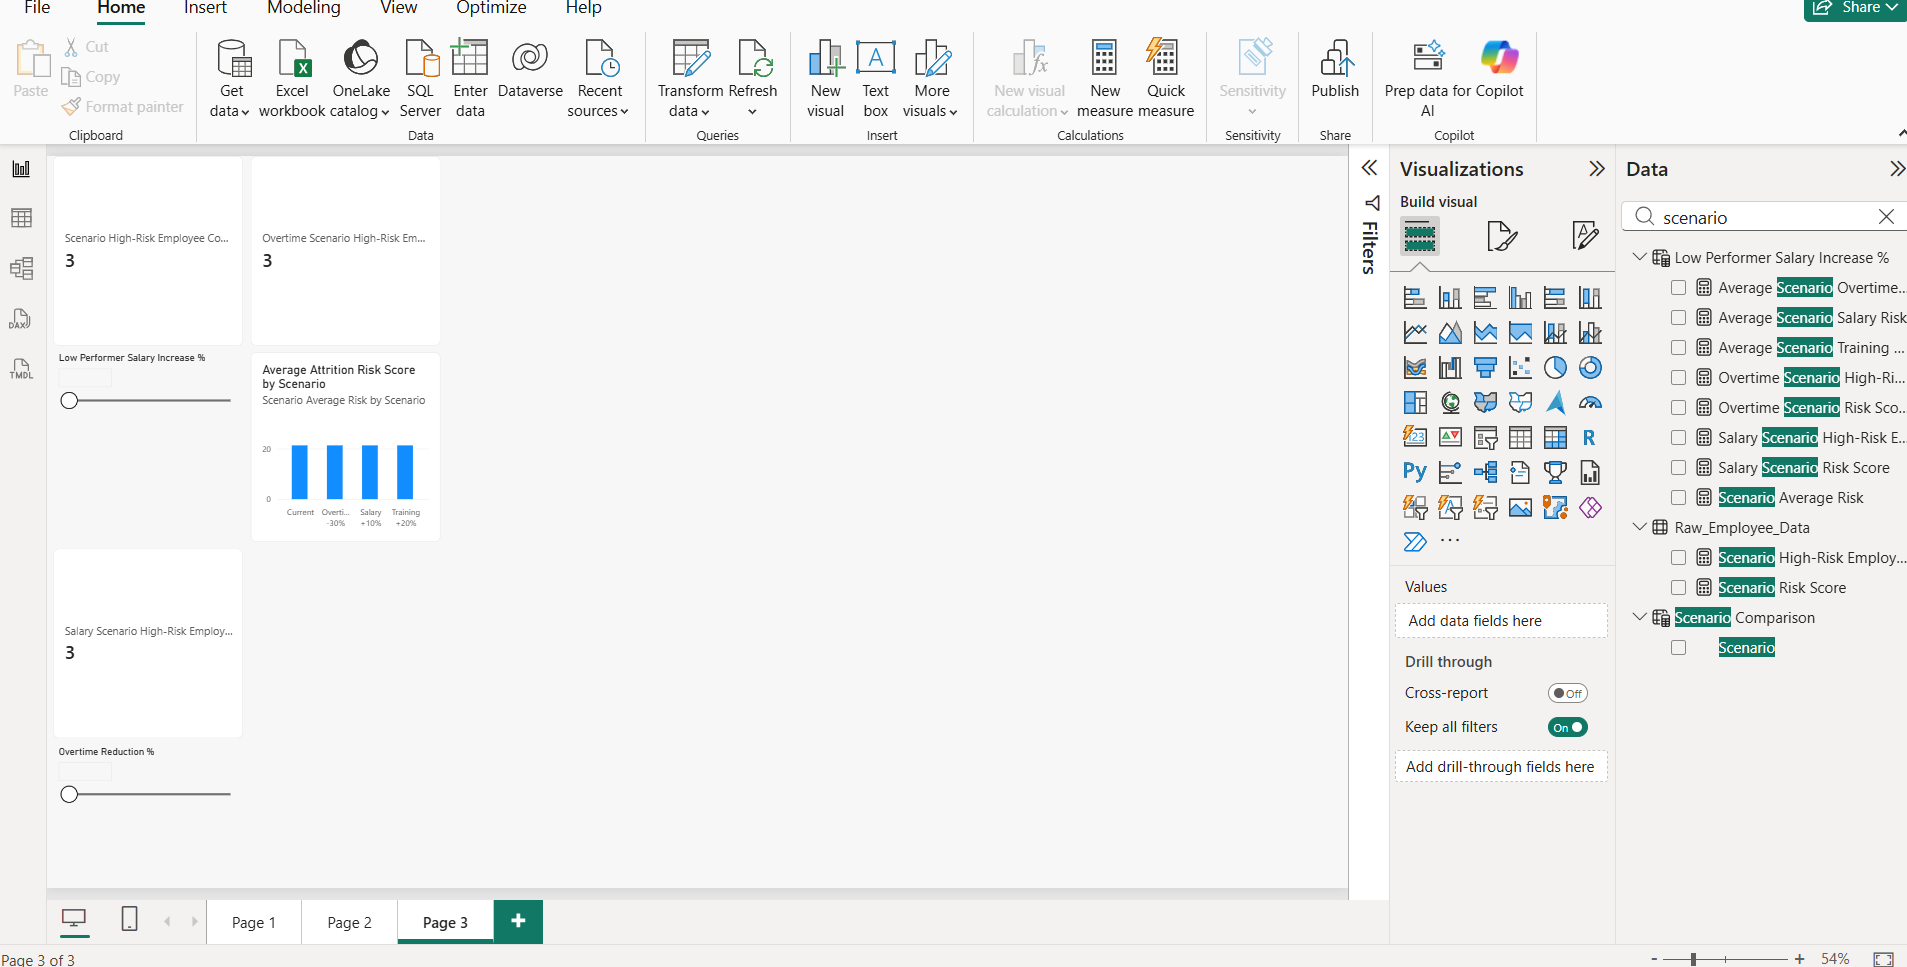

The dashboard page shown, as its layout file describes it:
{"tool":"powerbi","page":{"name":"Page 3","canvas":[1920,1080],"ordinal":2},"visuals":[{"type":"cardVisual","fields":{"Data":["Raw_Employee_Data.Scenario High-Risk Employee Count"]},"box":[10,0,280,280],"z":0},{"type":"slicer","fields":{"Values":["Low Performer Salary Increase %.Low Performer Salary Increase %"]},"box":[10,290,280,280],"z":1},{"type":"cardVisual","fields":{"Data":["Low Performer Salary Increase %.Salary Scenario High-Risk Employee Count"]},"box":[10,580,280,280],"z":2},{"type":"slicer","fields":{"Values":["Overtime Reduction %.Overtime Reduction %"]},"box":[10,870,280,210],"z":3},{"type":"cardVisual","fields":{"Data":["Low Performer Salary Increase %.Overtime Scenario High-Risk Employee Count"]},"box":[300,0,280,280],"z":4},{"type":"clusteredColumnChart","title":"Average Attrition Risk Score by Scenario","fields":{"Category":["Scenario Comparison.Scenario"],"Y":["Low Performer Salary Increase %.Scenario Average Risk"]},"box":[300,290,280,280],"z":5}]}

Visuals, with their boxes on the page's 1920x1080 design canvas (x1, y1, x2, y2). These are canvas units, not pixel positions in the 1907x967 screenshot, which may show the page scaled, cropped or inside an application window:
cardVisual - Raw_Employee_Data.Scenario High-Risk Employee Count: {"left": 10, "top": 0, "right": 290, "bottom": 280}
slicer - Low Performer Salary Increase %.Low Performer Salary Increase %: {"left": 10, "top": 290, "right": 290, "bottom": 570}
cardVisual - Low Performer Salary Increase %.Salary Scenario High-Risk Employee Count: {"left": 10, "top": 580, "right": 290, "bottom": 860}
slicer - Overtime Reduction %.Overtime Reduction %: {"left": 10, "top": 870, "right": 290, "bottom": 1080}
cardVisual - Low Performer Salary Increase %.Overtime Scenario High-Risk Employee Count: {"left": 300, "top": 0, "right": 580, "bottom": 280}
"Average Attrition Risk Score by Scenario" clusteredColumnChart: {"left": 300, "top": 290, "right": 580, "bottom": 570}
